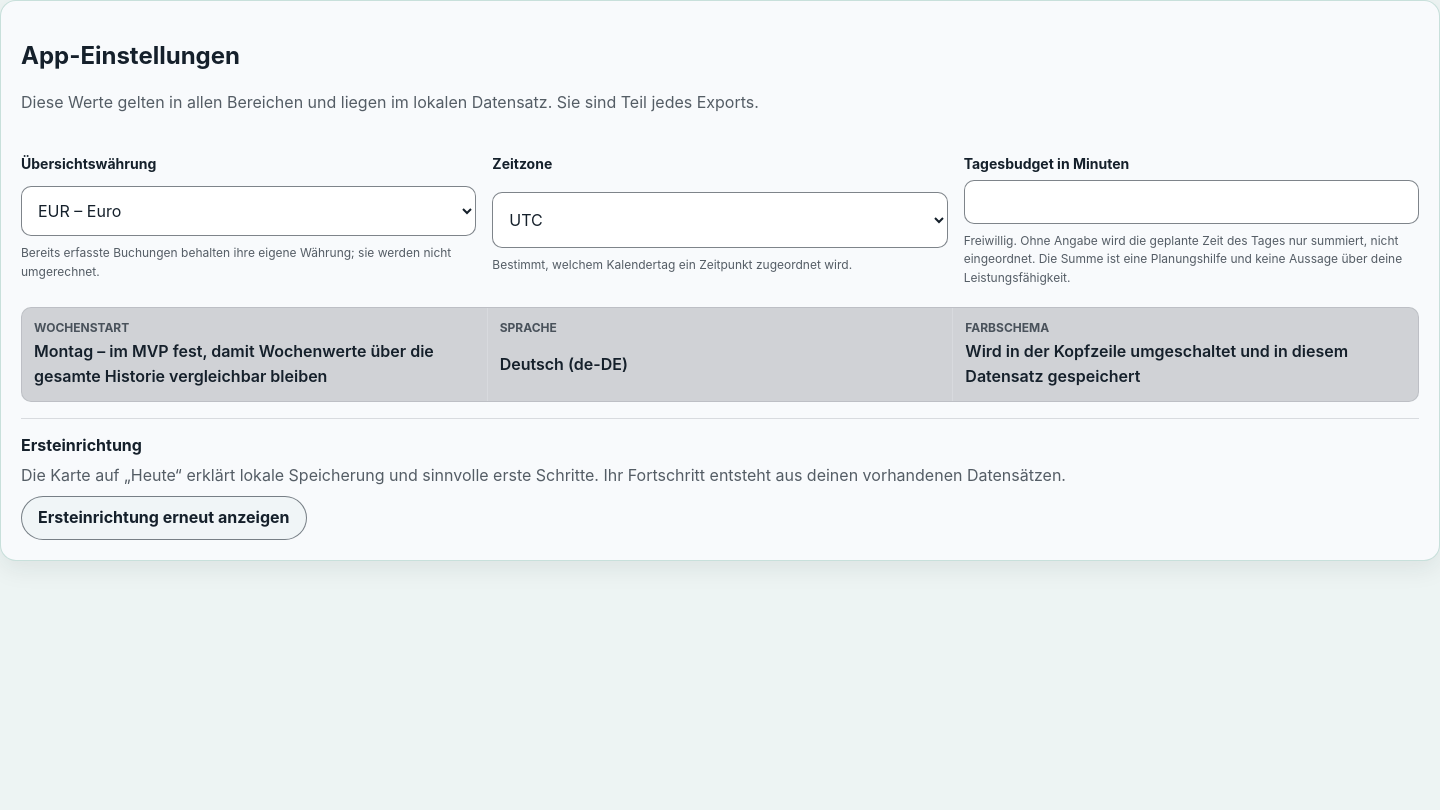
Test case: AppPreferencesPanel › makes a dismissed first-run guide available again
Click the button "Ersteinrichtung erneut anzeigen" at (164, 518), box top-left (21, 496), bottom-right (306, 540)
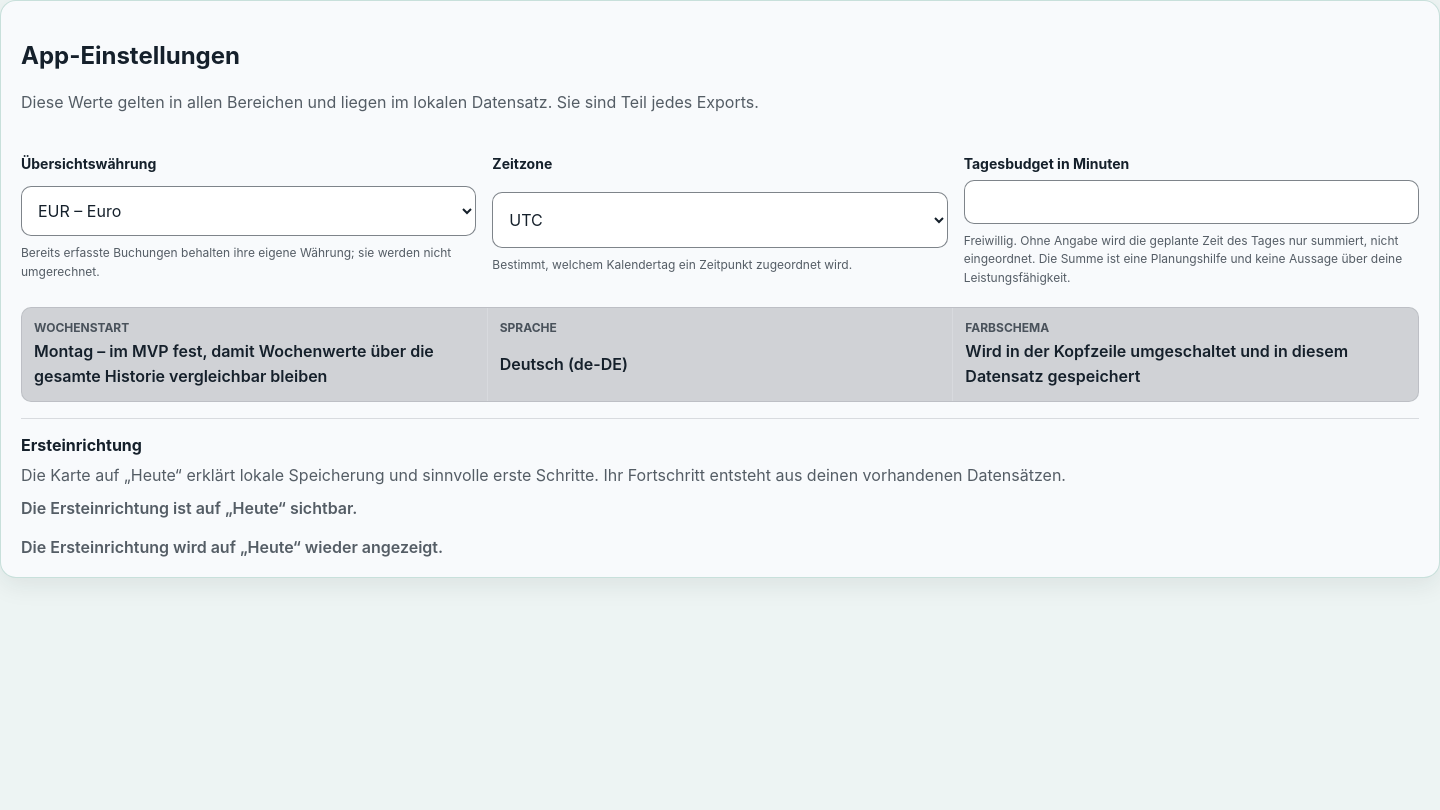
Expected: the text "Die Ersteinrichtung wird auf „Heute“ wieder angezeigt." is shown, top-left (21, 537), bottom-right (443, 557)
